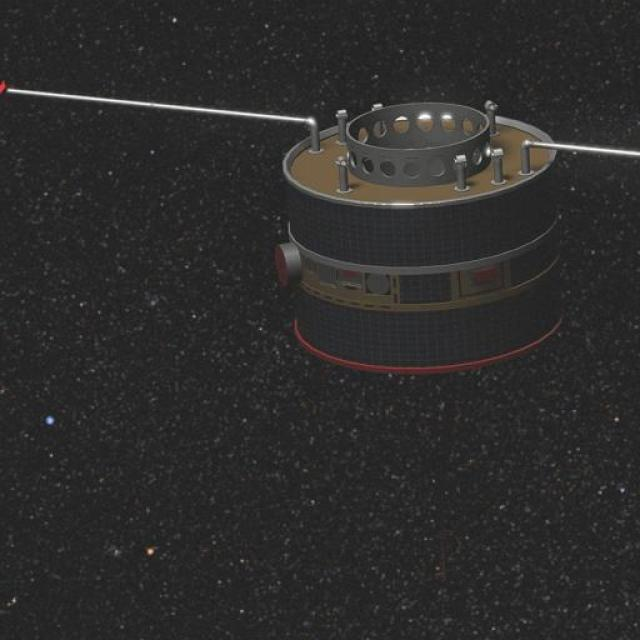double_start: (263, 80, 582, 378)
